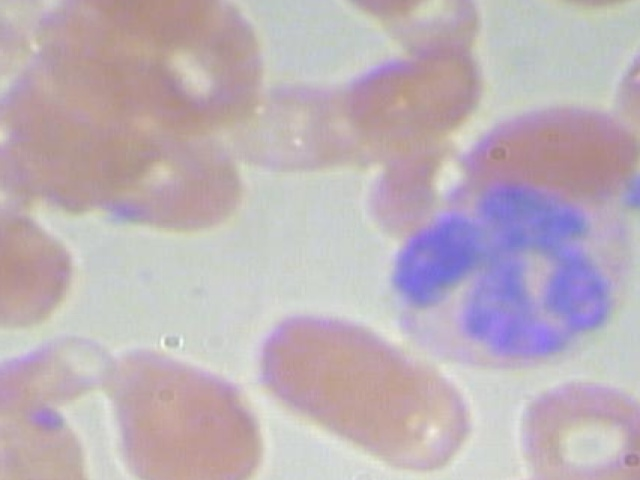Platelets: (613, 169, 640, 215)
RBC: (95, 340, 281, 480), (252, 305, 432, 433), (457, 94, 640, 209), (75, 119, 251, 232), (325, 40, 495, 150), (331, 367, 501, 477), (204, 74, 375, 183), (506, 376, 640, 480), (0, 330, 137, 421), (0, 216, 88, 342), (0, 0, 68, 88), (0, 141, 56, 245), (595, 20, 640, 135)
WBC: (374, 176, 636, 381)
